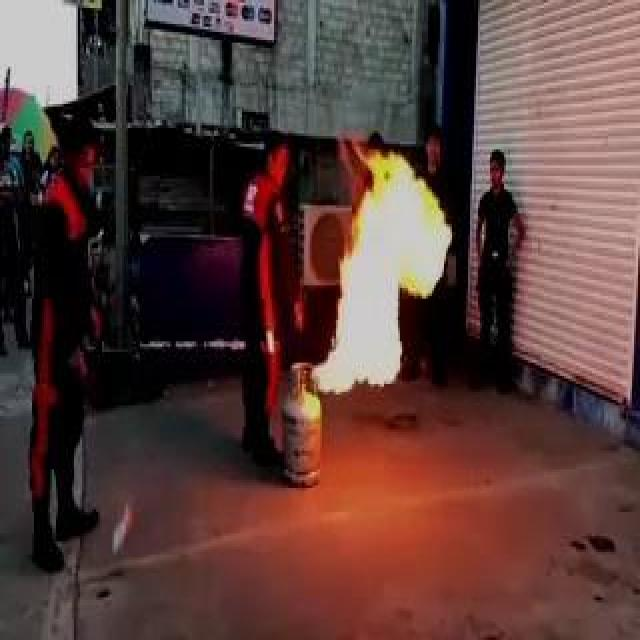Smoke: (309, 136, 433, 400)
